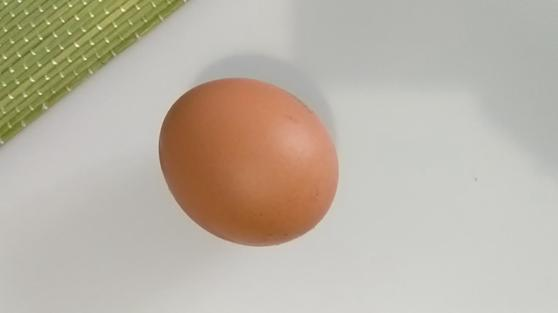egg: (159, 81, 342, 248)
